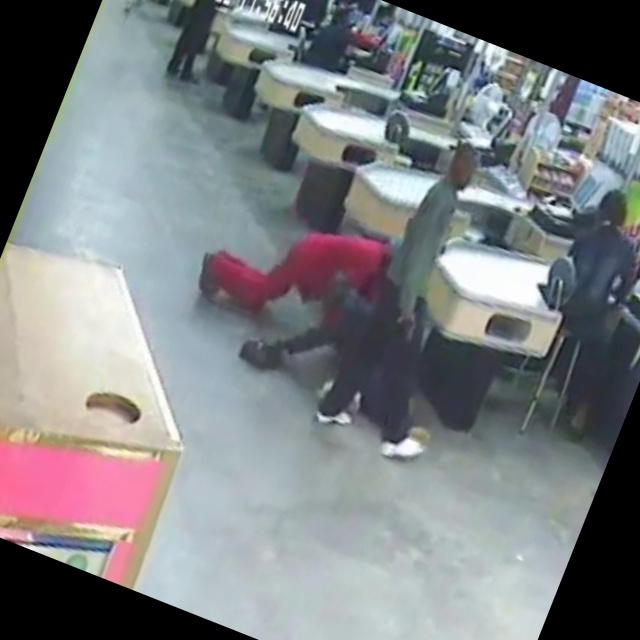gun: (384, 302, 425, 351)
